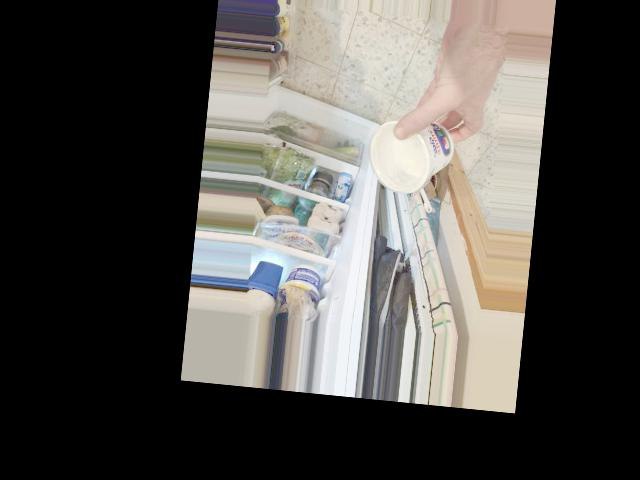cotage: (370, 112, 460, 197)
